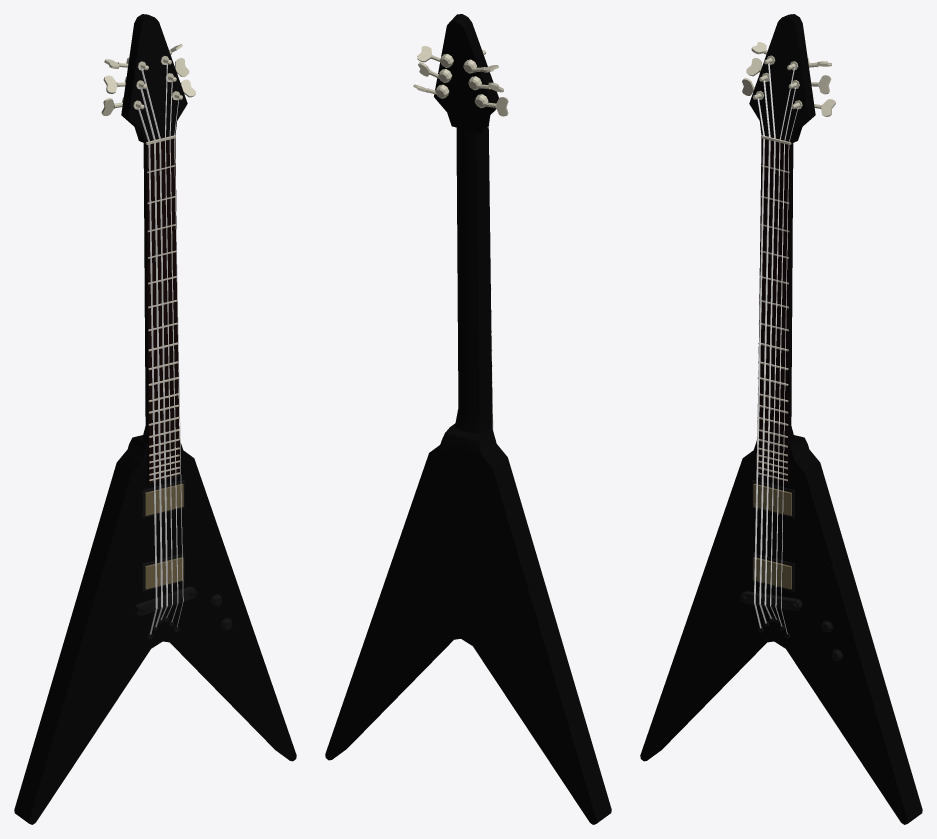
Rendered from guitar.glb.
3 views of the same model, side by side, from view 1: azimuth 30°, elevation 25°; view 2: azimuth 150°, elevation 25°; view 3: azimuth 330°, elevation 25° (orthographic).
Visible parts, largest first — view 1: pCylinder15; view 2: pCylinder15; view 3: pCylinder15.
Part boxes in pixels (x1,y1,x2,y2): pCylinder15: (14, 14, 296, 824); pCylinder15: (325, 14, 611, 824); pCylinder15: (640, 14, 922, 824).
Bounding box in the file's own units: 0.7638 × 2.09 × 0.1492.
